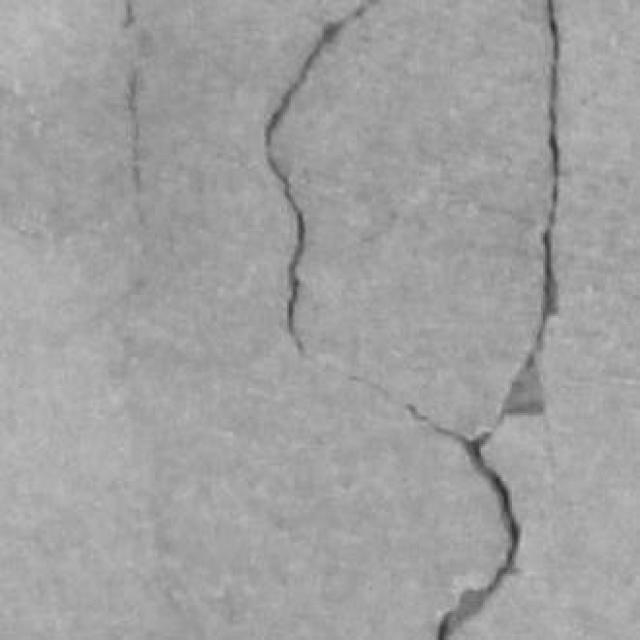crack: (264, 0, 380, 352), (406, 404, 521, 639), (499, 0, 560, 422), (437, 435, 521, 639), (538, 0, 560, 347), (127, 63, 143, 221), (127, 66, 141, 193), (123, 0, 137, 29)
